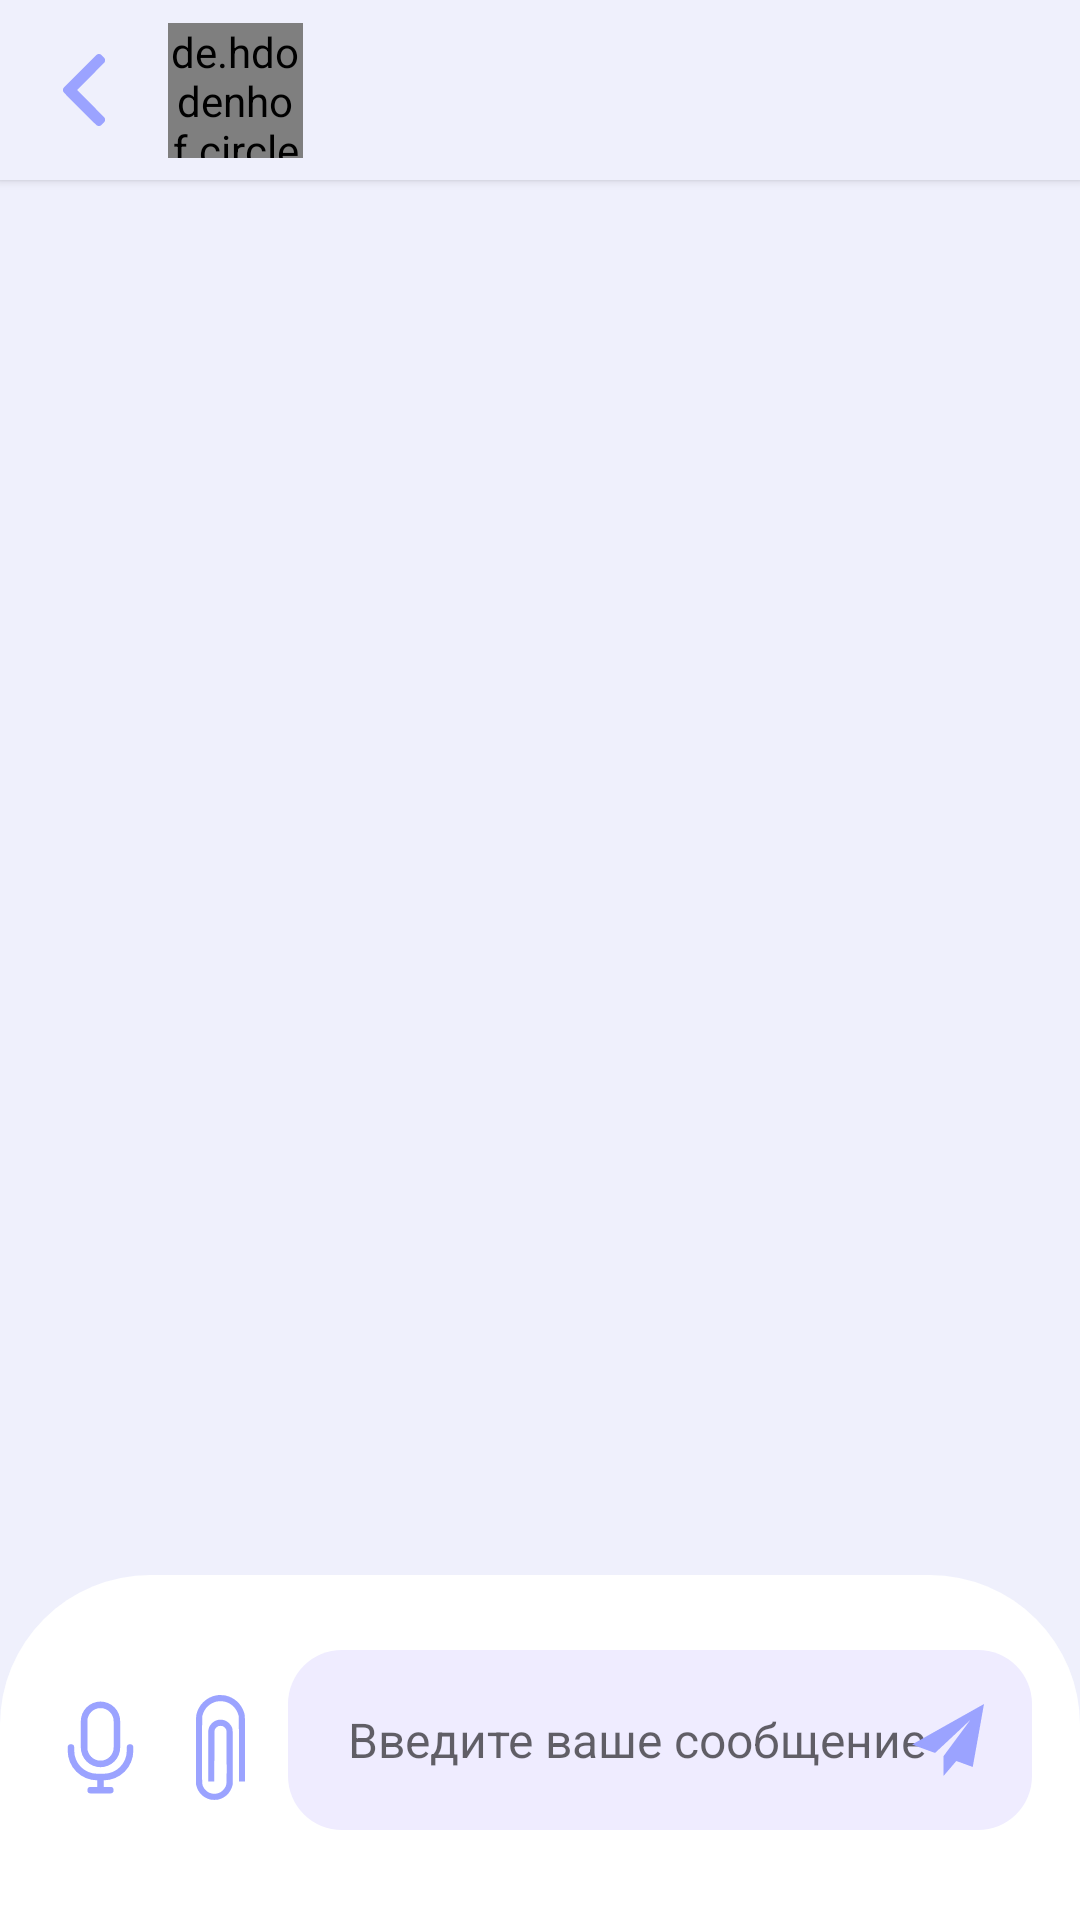

Point at icon controls on the screen. Image size 1080×1920, points as point (x, y).
clip: point (220, 1747)
left arrow: point (84, 90)
microphone: point (100, 1747)
send: point (948, 1740)
